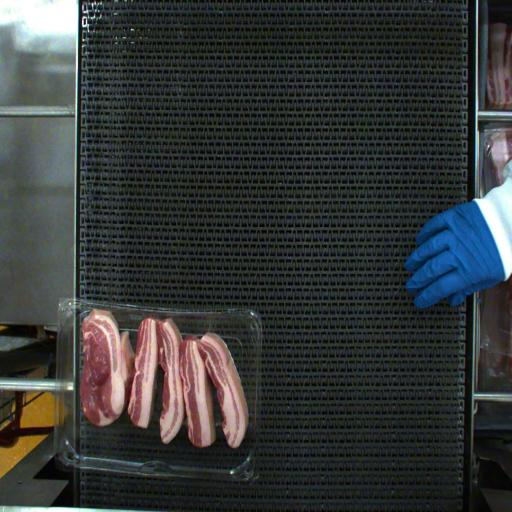loose-meat: (202, 339, 245, 441), (134, 324, 163, 434)
